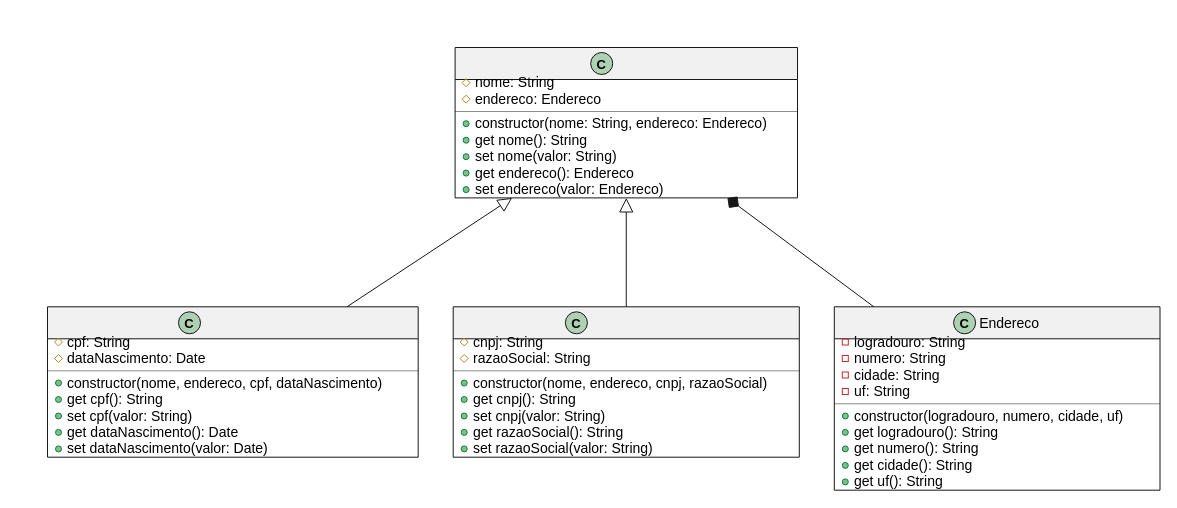
Some shapes in this 1177 by 508 pixel diagram are drawn without their labels. The box of each missing label's shape, as (x1, y1, x2, y2) in pixels:
Pessoa: (454, 46, 798, 198)
PessoaFisica: (46, 306, 418, 457)
PessoaJuridica: (452, 306, 799, 457)
